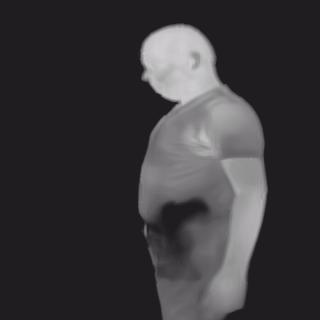Gun: (160, 196, 210, 251)
